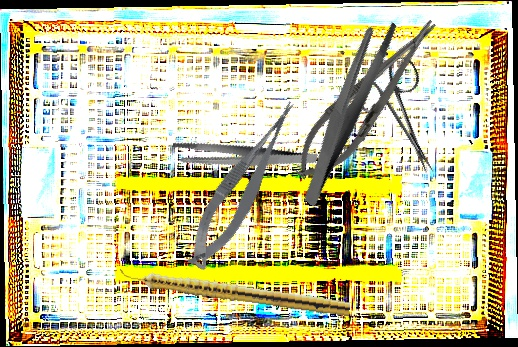Dressing Forceps: (260, 12, 434, 208), (168, 110, 319, 202)
Handpiece: (117, 264, 352, 318)
Iris Scissors: (348, 52, 462, 188)
Micro Scissor: (170, 95, 319, 276)
Needle Holder: (282, 6, 453, 194)
